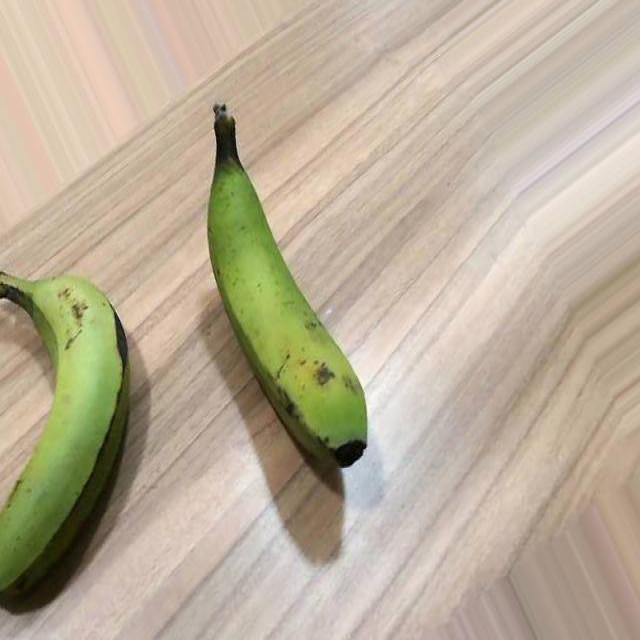Unripe: (207, 102, 372, 470), (0, 269, 134, 602)
